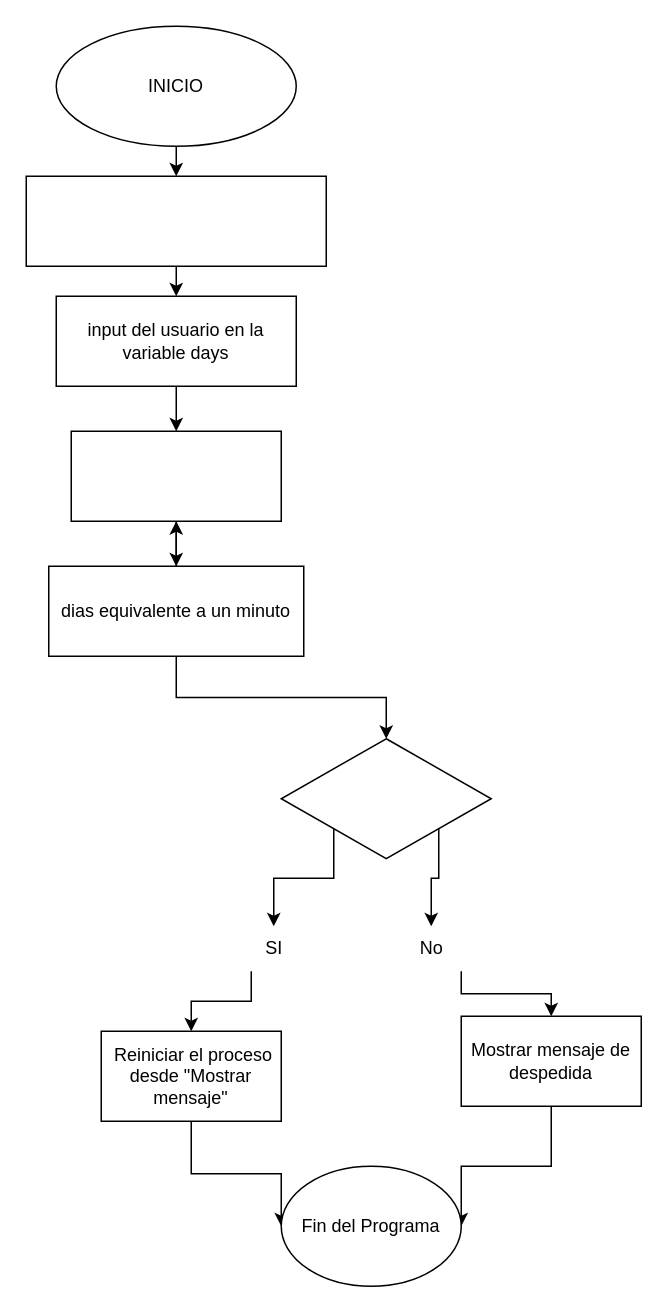
The diagram is 668 pixels wide and 1313 high, and some of its shapes have lost their labels. The centre of each missing label's shape, as x and y in pixels:
"¿Desea realizar otra conversión? (S/N):": pixel 385 798
Calcular dias*minutos 24*60: pixel 175 475
Ingrese la cantidad de días a convertir en minutos: pixel 175 220
